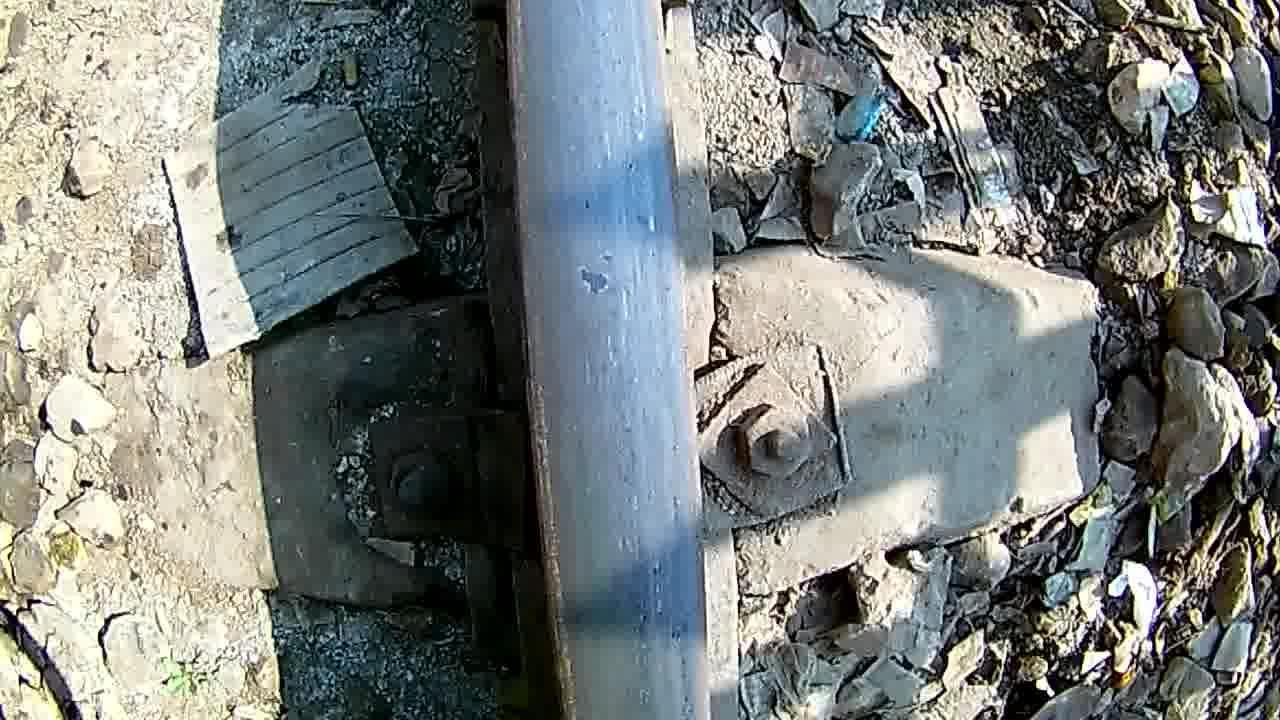crack: (570, 173, 678, 386)
